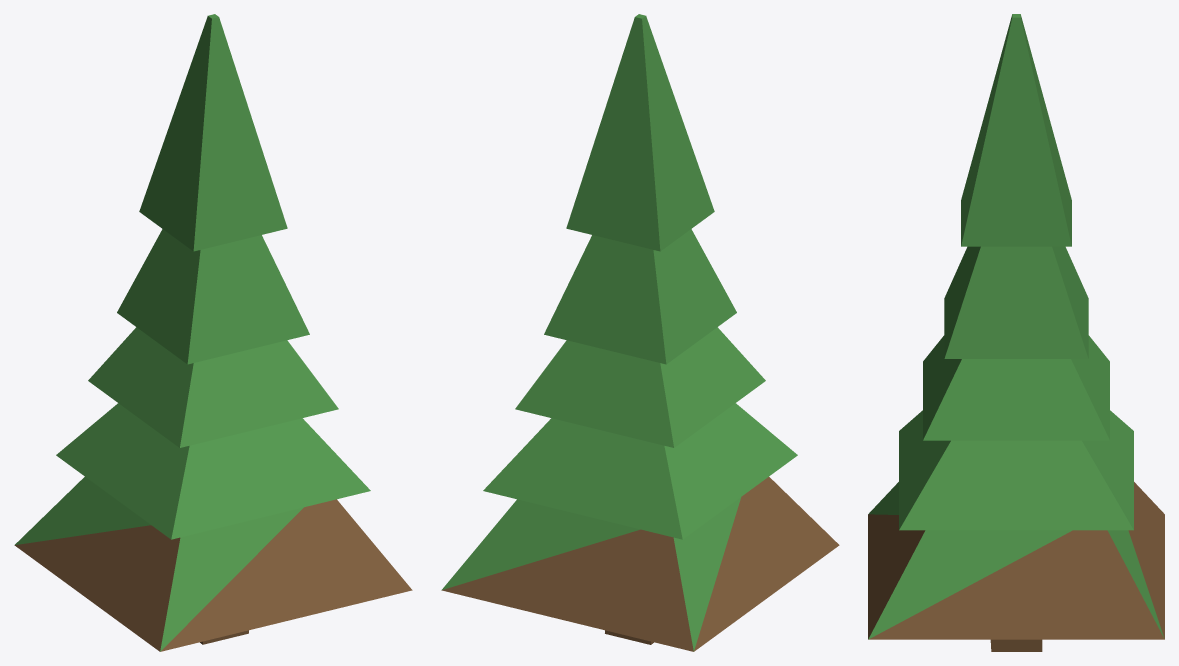
File: tree3d-160.glb
3 views of the same model, side by side, from view 1: azimuth 30°, elevation 25°; view 2: azimuth 150°, elevation 25°; view 3: azimuth 270°, elevation 25° (orthographic).
Visible parts, largest first — view 1: tree3d-160; view 2: tree3d-160; view 3: tree3d-160.
Part boxes in pixels (box(x1,y1,x2,y2)): tree3d-160: box(14, 14, 412, 651); tree3d-160: box(441, 14, 839, 651); tree3d-160: box(868, 14, 1164, 651).
Bounding box in the file's own units: 0.4306 × 1 × 0.4306.
